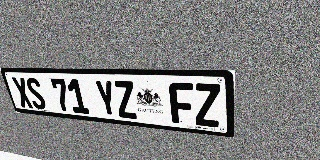1: (65, 79, 89, 114)
7: (49, 78, 73, 113)
F: (168, 82, 195, 125)
S: (24, 77, 48, 110)
X: (11, 77, 34, 109)
Y: (94, 80, 119, 117)
Z: (194, 83, 220, 128), (113, 80, 138, 119)
